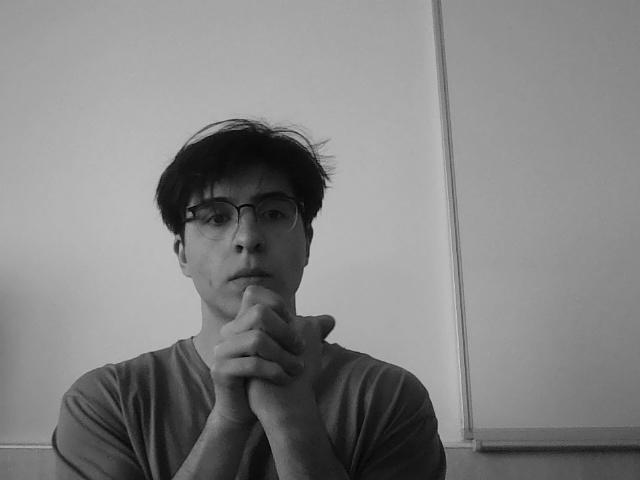friend: (206, 285, 336, 459)
